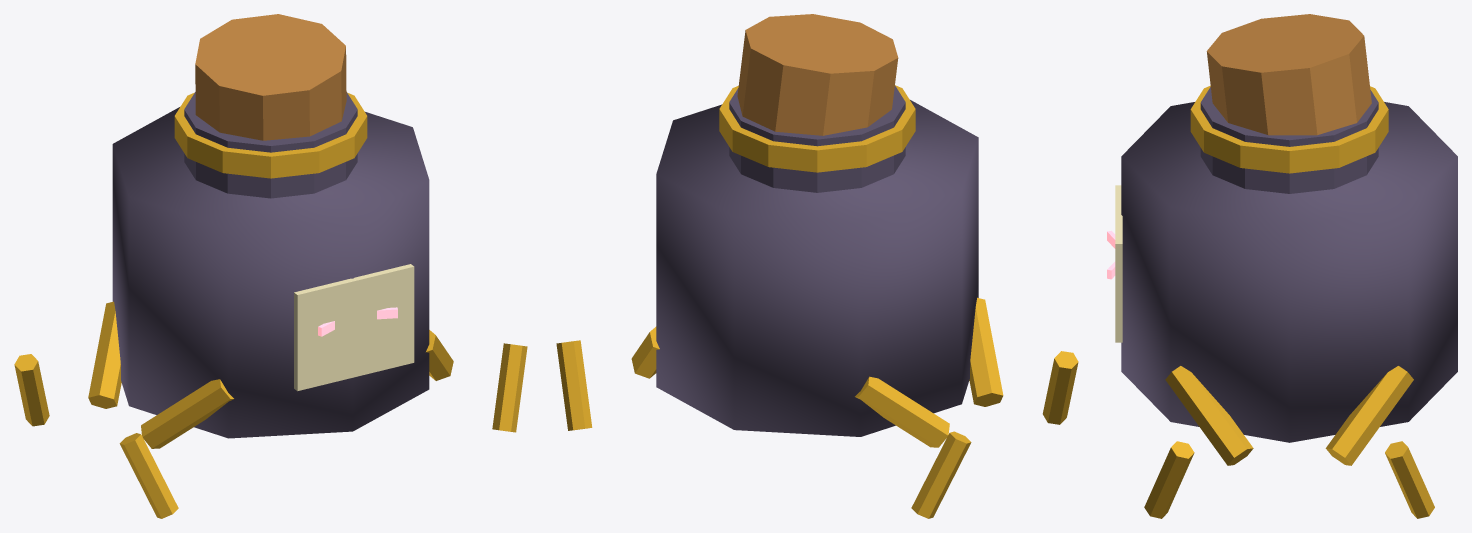
File: tintero_rabioso.glb
The picture shows the model from 3 angles, left to right: view 1: azimuth 30°, elevation 25°; view 2: azimuth 150°, elevation 25°; view 3: azimuth 270°, elevation 25°; orthographic projection. The views are drawn at different scales.
Visible parts, largest first — view 1: Tintero_Frasco_Cristal, Tintero_Tapon_Corcho, Tintero_Etiqueta_Papel, Tintero_Cuello_Frasco, Tintero_Anillo_Laton, Tintero_Pata_Muslo_0, Tintero_Pata_Muslo_1, Tintero_Pata_Pie_2, Tintero_Pata_Pie_0, Tintero_Pata_Pie_1, Tintero_Pata_Muslo_2; view 2: Tintero_Frasco_Cristal, Tintero_Tapon_Corcho, Tintero_Anillo_Laton, Tintero_Cuello_Frasco, Tintero_Pata_Muslo_1, Tintero_Pata_Muslo_0, Tintero_Pata_Pie_3, Tintero_Pata_Pie_1, Tintero_Pata_Pie_0, Tintero_Pata_Muslo_3; view 3: Tintero_Frasco_Cristal, Tintero_Tapon_Corcho, Tintero_Anillo_Laton, Tintero_Cuello_Frasco, Tintero_Pata_Muslo_2, Tintero_Pata_Muslo_3, Tintero_Pata_Pie_2, Tintero_Pata_Pie_3, Tintero_Etiqueta_Papel.
Boxes of the visible parts, box(x1,y1,x2,y2) form: Tintero_Frasco_Cristal: box(112, 107, 429, 438); Tintero_Tapon_Corcho: box(195, 14, 346, 140); Tintero_Etiqueta_Papel: box(294, 264, 414, 391); Tintero_Cuello_Frasco: box(184, 92, 357, 198); Tintero_Anillo_Laton: box(174, 92, 367, 178); Tintero_Pata_Muslo_0: box(141, 379, 233, 448); Tintero_Pata_Muslo_1: box(88, 301, 121, 408); Tintero_Pata_Pie_2: box(492, 343, 527, 432); Tintero_Pata_Pie_0: box(119, 433, 178, 518); Tintero_Pata_Pie_1: box(14, 354, 49, 426); Tintero_Pata_Muslo_2: box(426, 330, 453, 380); Tintero_Frasco_Cristal: box(656, 100, 978, 436); Tintero_Tapon_Corcho: box(737, 14, 898, 135); Tintero_Anillo_Laton: box(719, 85, 915, 172); Tintero_Cuello_Frasco: box(729, 86, 905, 192); Tintero_Pata_Muslo_1: box(855, 376, 949, 447); Tintero_Pata_Muslo_0: box(969, 297, 1003, 406); Tintero_Pata_Pie_3: box(556, 340, 592, 430); Tintero_Pata_Pie_1: box(911, 431, 971, 518); Tintero_Pata_Pie_0: box(1042, 351, 1078, 424); Tintero_Pata_Muslo_3: box(631, 326, 659, 378); Tintero_Frasco_Cristal: box(1121, 102, 1457, 442); Tintero_Tapon_Corcho: box(1206, 14, 1371, 135); Tintero_Anillo_Laton: box(1190, 85, 1388, 173); Tintero_Cuello_Frasco: box(1200, 87, 1378, 193); Tintero_Pata_Muslo_2: box(1165, 366, 1253, 465); Tintero_Pata_Muslo_3: box(1325, 366, 1413, 465); Tintero_Pata_Pie_2: box(1144, 441, 1194, 518); Tintero_Pata_Pie_3: box(1385, 441, 1434, 518); Tintero_Etiqueta_Papel: box(1115, 185, 1122, 342).
Size of the model in its own units: 0.966 by 0.881 by 0.709.
